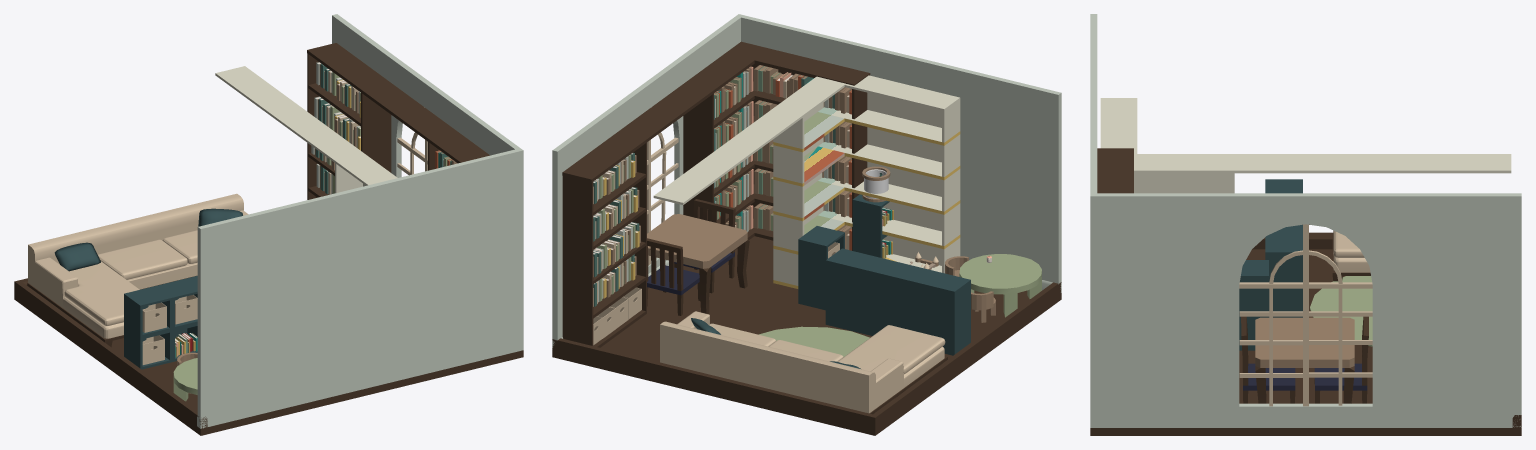
The model's file is Scene1_Sketchfab.fbx.
3 renders of one model, left to right at view 1: azimuth 30°, elevation 25°; view 2: azimuth 150°, elevation 25°; view 3: azimuth 270°, elevation 25°, orthographic. The views are drawn at different scales.
Visible parts, largest first — view 1: wall_right, Sammy_Sectional_Sofa:Sofa, polySurface2, Sammy_L_Bookshelf:adult_L_bookshelf, Sammy_L_Bookshelf:pCube1, floor, Sammy_Adult_Bookshelf:adult_normal_bookshelf, ledge_sides, Sammy_Sectional_Sofa:LCushion, Sammy_Sectional_Sofa:Cushion1, Sammy_Kid_1_Bookshelf5:pCube2, Sammy_Kid_1_Bookshelf5:pCube1 (+8 smaller); view 2: Sammy_L_Bookshelf:adult_L_bookshelf, wall_right, floor, Sammy_L_Bookshelf:pCube1, Sammy_Sectional_Sofa:Sofa, Sammy_Adult_Bookshelf:adult_normal_bookshelf, polySurface2, ledge_sides, Sammy_Adult_Table:pCube2, Sammy_Kid_Table:pCylinder1, Sammy_Sectional_Sofa:LCushion, Sammy_Kid_1_Bookshelf5:pCube2 (+18 smaller); view 3: polySurface2, Sammy_L_Bookshelf:adult_L_bookshelf, floor, Sammy_Adult_Table:pCube2, wall_right, pCube1, Sammy_Rug:rug_mesh, Sammy_L_Bookshelf:pCube1, Sammy_Kid_1_Bookshelf2:pCube2, pCube2, pCube3, Sammy_Kid_1_Bookshelf1:pCube2 (+8 smaller).
Part boxes in pixels (x1=…): wall_right: x1=197, y1=148, x2=523, y2=428; Sammy_Sectional_Sofa:Sofa: x1=28, y1=193, x2=248, y2=338; polySurface2: x1=332, y1=14, x2=523, y2=345; Sammy_L_Bookshelf:adult_L_bookshelf: x1=215, y1=66, x2=397, y2=193; Sammy_L_Bookshelf:pCube1: x1=307, y1=43, x2=489, y2=170; floor: x1=14, y1=293, x2=523, y2=435; Sammy_Adult_Bookshelf:adult_normal_bookshelf: x1=307, y1=52, x2=391, y2=199; ledge_sides: x1=14, y1=278, x2=207, y2=428; Sammy_Sectional_Sofa:LCushion: x1=59, y1=261, x2=139, y2=325; Sammy_Sectional_Sofa:Cushion1: x1=98, y1=239, x2=187, y2=279; Sammy_Kid_1_Bookshelf5:pCube2: x1=124, y1=286, x2=172, y2=337; Sammy_Kid_1_Bookshelf5:pCube1: x1=124, y1=326, x2=172, y2=369; Sammy_L_Bookshelf:adult_L_bookshelf: x1=653, y1=75, x2=960, y2=288; wall_right: x1=736, y1=14, x2=1061, y2=292; floor: x1=552, y1=236, x2=1061, y2=435; Sammy_L_Bookshelf:pCube1: x1=562, y1=41, x2=870, y2=250; Sammy_Sectional_Sofa:Sofa: x1=660, y1=311, x2=944, y2=413; Sammy_Adult_Bookshelf:adult_normal_bookshelf: x1=562, y1=141, x2=646, y2=347; polySurface2: x1=552, y1=14, x2=743, y2=347; ledge_sides: x1=552, y1=282, x2=1061, y2=428; Sammy_Adult_Table:pCube2: x1=647, y1=214, x2=749, y2=314; Sammy_Kid_Table:pCylinder1: x1=959, y1=254, x2=1041, y2=317; Sammy_Sectional_Sofa:LCushion: x1=837, y1=325, x2=945, y2=374; Sammy_Kid_1_Bookshelf5:pCube2: x1=922, y1=272, x2=970, y2=323; polySurface2: x1=1090, y1=193, x2=1521, y2=427; Sammy_L_Bookshelf:adult_L_bookshelf: x1=1100, y1=98, x2=1511, y2=193; floor: x1=1090, y1=249, x2=1521, y2=435; Sammy_Adult_Table:pCube2: x1=1255, y1=317, x2=1354, y2=403; wall_right: x1=1090, y1=14, x2=1099, y2=427; pCube1: x1=1239, y1=224, x2=1372, y2=406; Sammy_Rug:rug_mesh: x1=1310, y1=276, x2=1372, y2=346; Sammy_L_Bookshelf:pCube1: x1=1097, y1=148, x2=1309, y2=224; Sammy_Kid_1_Bookshelf2:pCube2: x1=1265, y1=234, x2=1302, y2=289; pCube2: x1=1309, y1=288, x2=1372, y2=405; pCube3: x1=1239, y1=288, x2=1302, y2=406; Sammy_Kid_1_Bookshelf1:pCube2: x1=1239, y1=260, x2=1268, y2=312.
Bounding box in the file's own units: 24 × 14.7 × 24.
4 materials, 3 textured.
